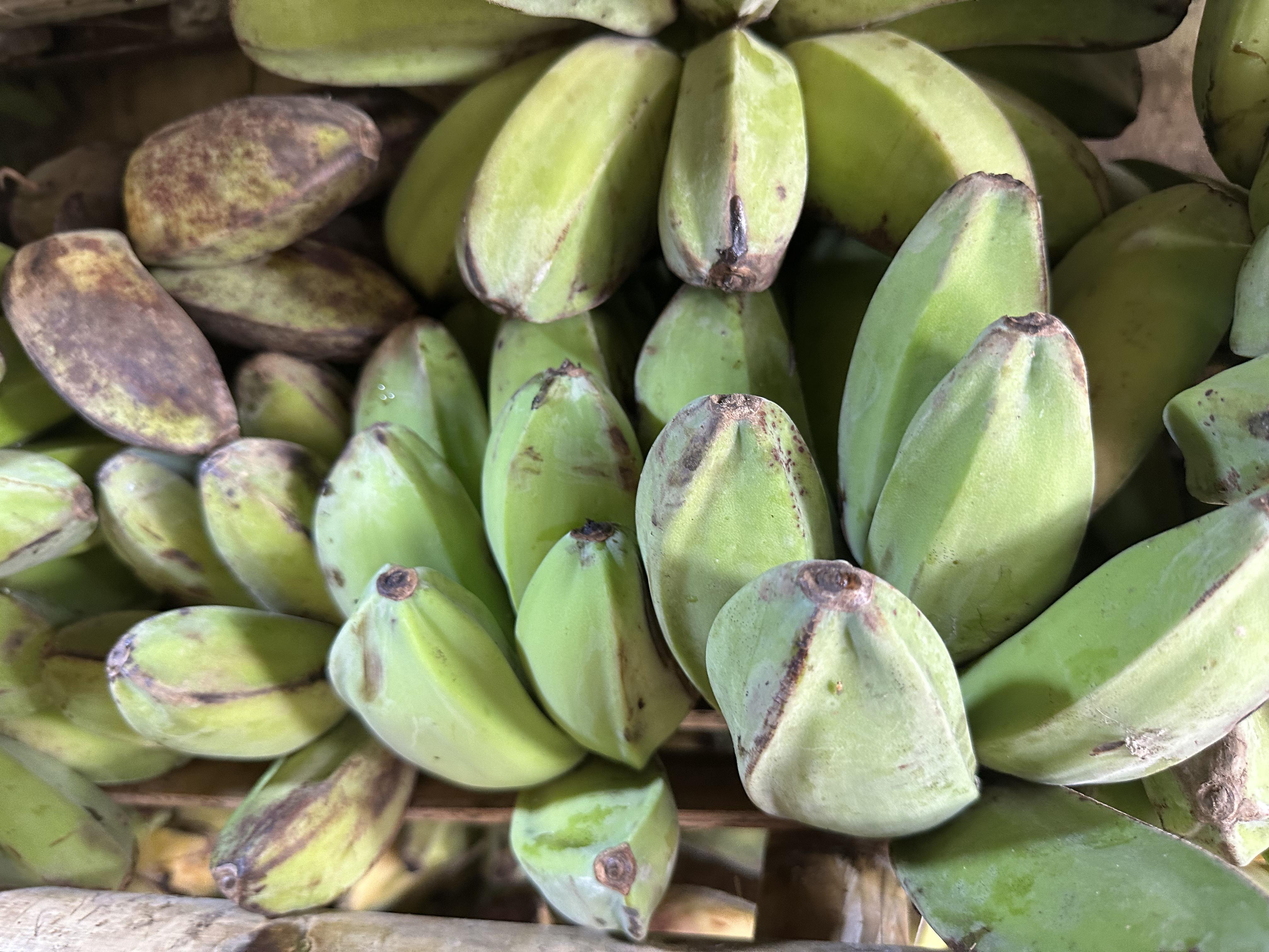underripe: (314, 172, 1269, 950), (229, 0, 1190, 322), (4, 96, 415, 454), (0, 317, 186, 889), (97, 352, 350, 760)
